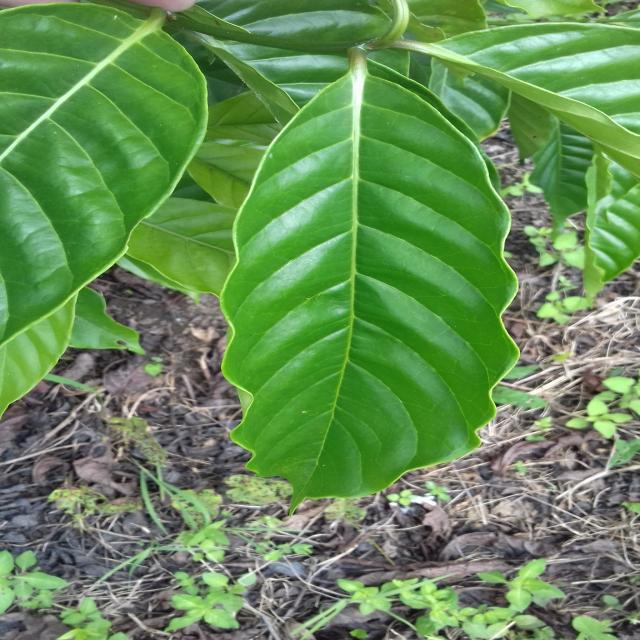Sanas: (217, 61, 518, 502)
